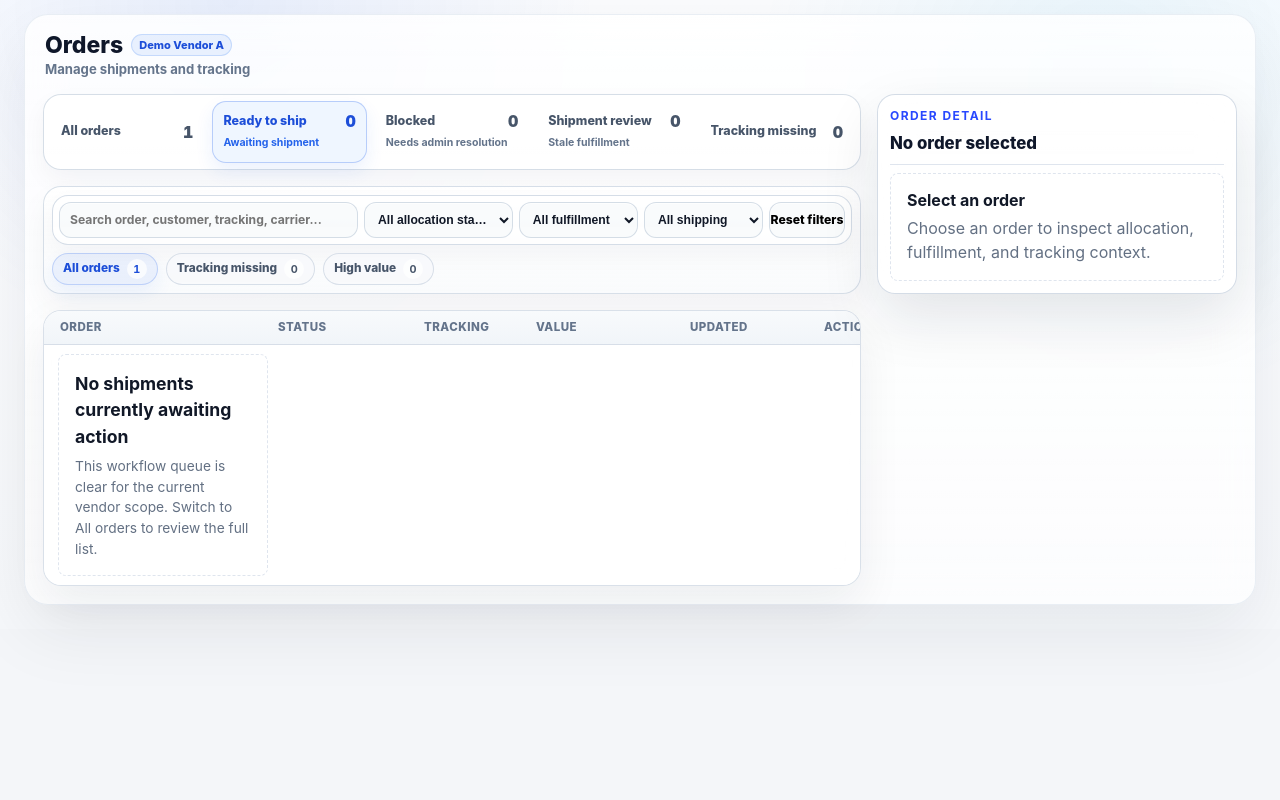
Test: OrdersPage control center › keeps conflict-cancelled raw awaiting-shipment rows out of open workflow filters
Expected: the heading "No shipments currently awaiting action" is shown, [75,371,251,450]
Expected: the text "#1108" is not shown
Step 1. Click the 1st button "All orders 1" → (127, 132), box [50,101,204,163]
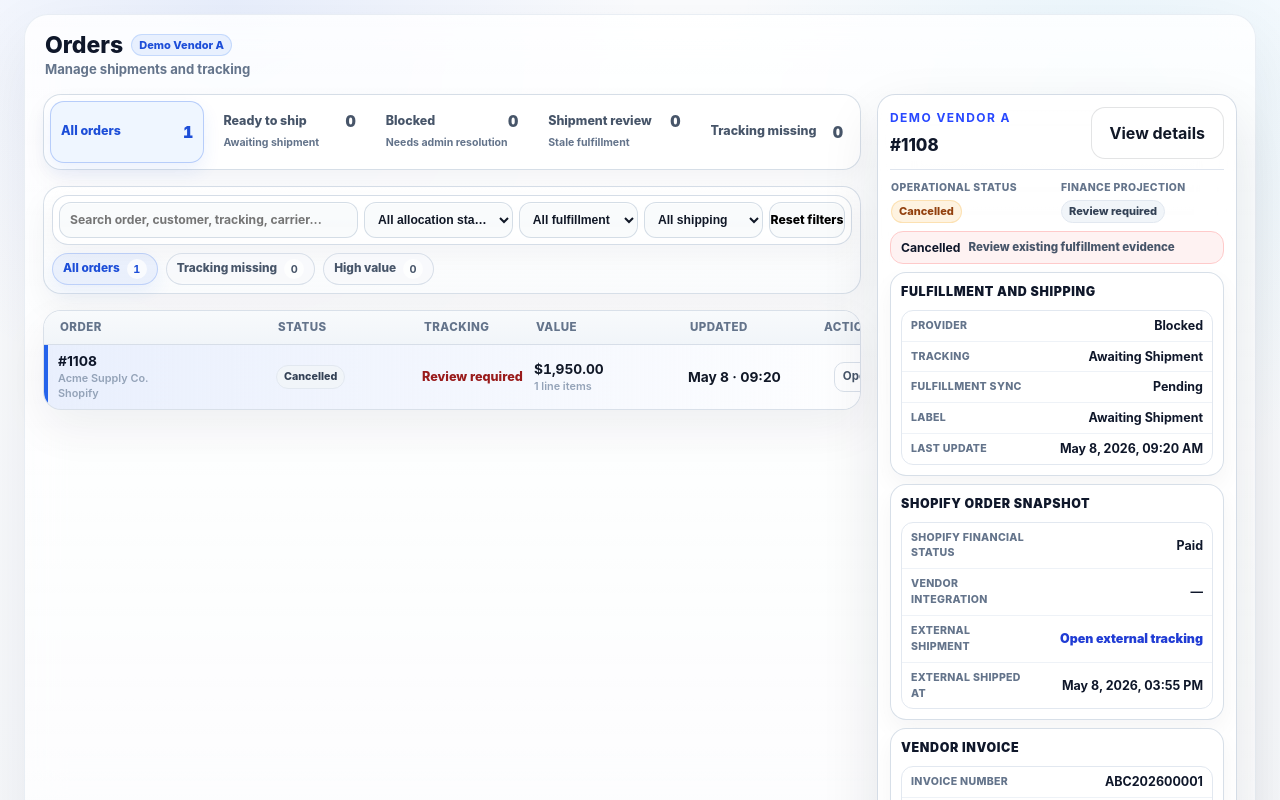
Now the text "#1108" is shown, box [58,353,97,369]
Step 2. Click the 1st button "Tracking missing 0" → (777, 132), box [700,101,854,163]
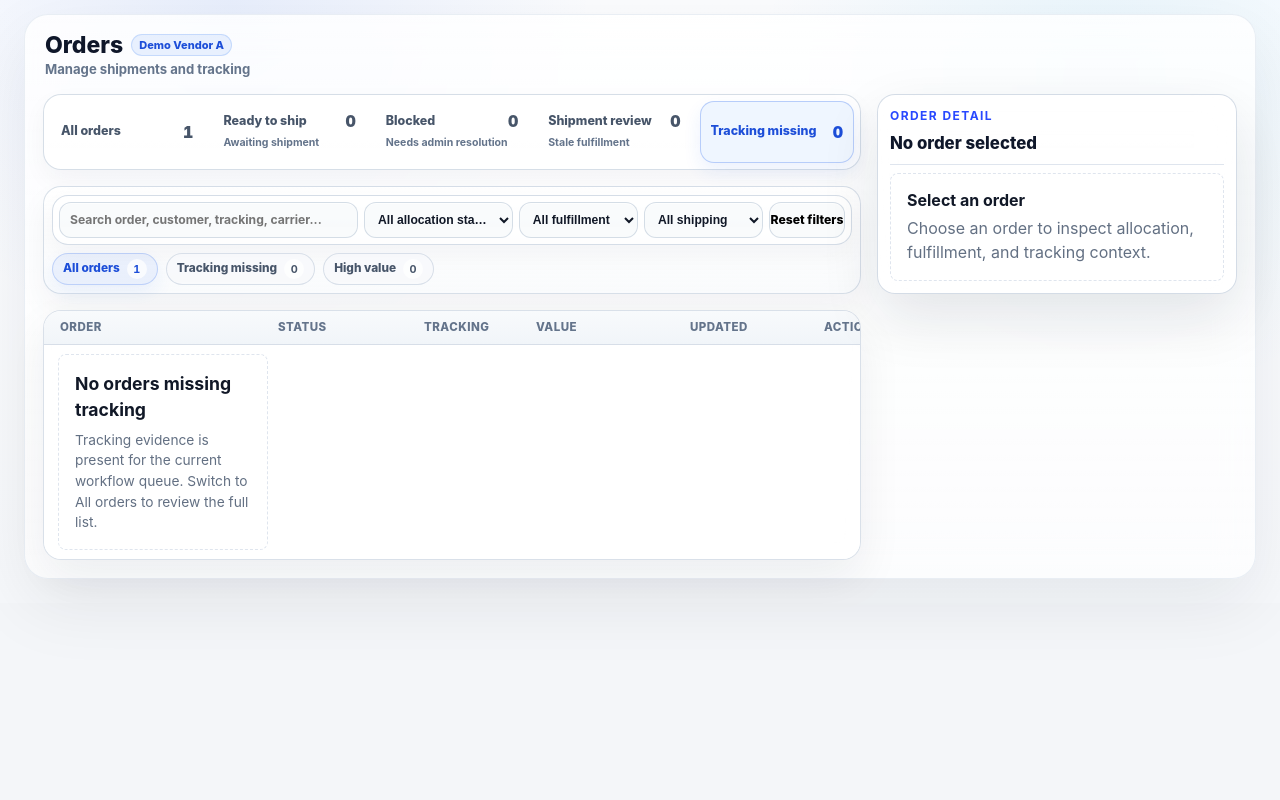
Now the heading "No orders missing tracking" is shown, box [75,371,251,424]
Now the button "#1108" is gone
